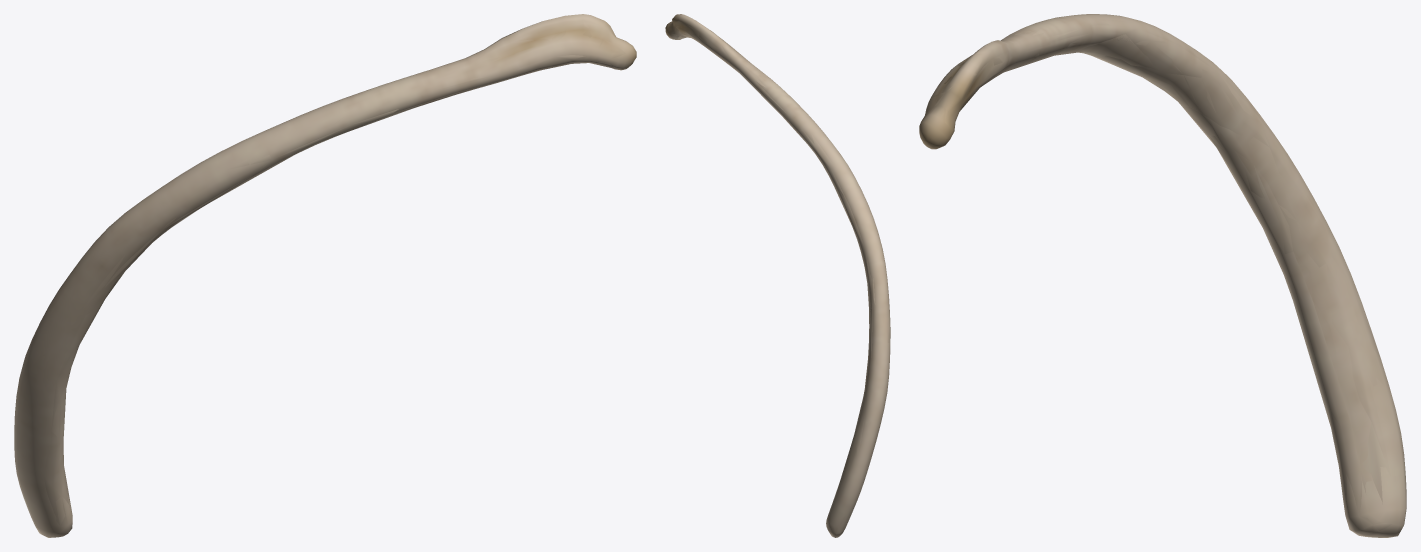
Rendered from Rib R16.fbx.
3 renders of one model, left to right at view 1: azimuth 30°, elevation 25°; view 2: azimuth 150°, elevation 25°; view 3: azimuth 270°, elevation 25°, orthographic. The views are drawn at different scales.
Parts seen in each view (by area): view 1: Rib R16, Rib R16 low; view 2: Rib R16, Rib R16 low; view 3: Rib R16, Rib R16 low.
Part boxes in pixels (<box>): Rib R16: <box>14,14,636,537</box>; Rib R16 low: <box>22,17,625,537</box>; Rib R16: <box>665,14,890,537</box>; Rib R16 low: <box>667,18,889,536</box>; Rib R16: <box>919,14,1406,537</box>; Rib R16 low: <box>922,19,1406,533</box>.
Size of the model in its own units: 26.49 by 29.82 by 18.34.
1 material, 1 textured.
